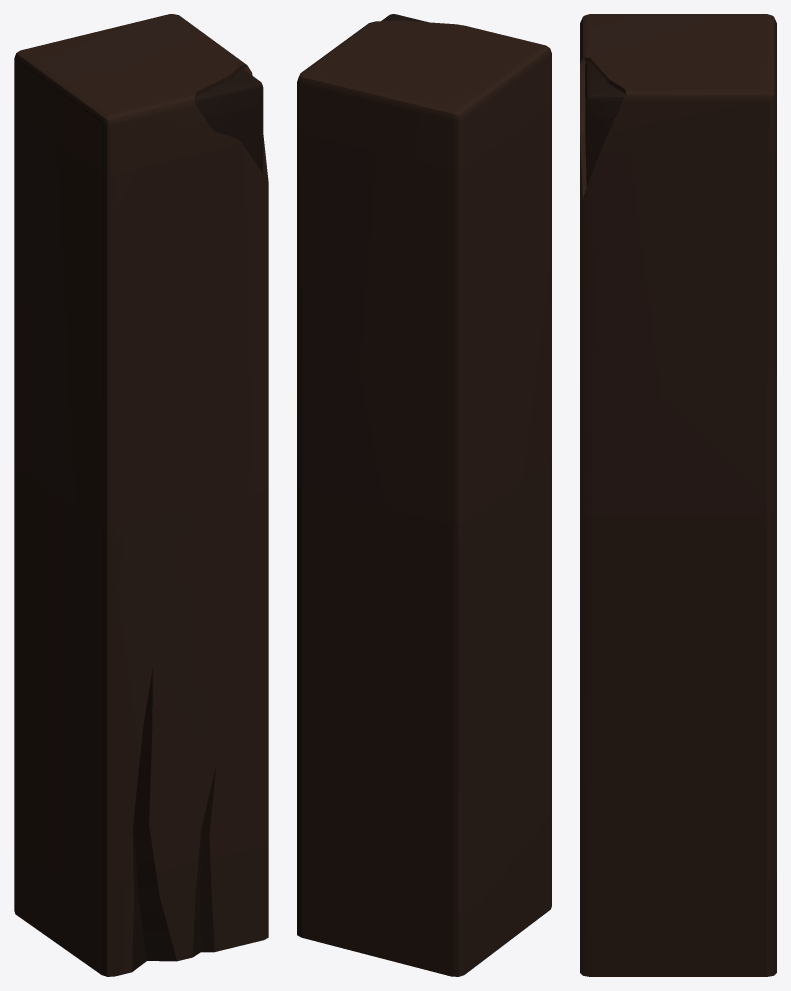
The model's file is SM_Column02.fbx.
3 views of the same model, side by side, from view 1: azimuth 30°, elevation 25°; view 2: azimuth 150°, elevation 25°; view 3: azimuth 270°, elevation 25° (orthographic). The views are drawn at different scales.
Parts seen in each view (by area): view 1: SM_Column02; view 2: SM_Column02; view 3: SM_Column02.
Boxes of the visible parts, x1=… form: SM_Column02: x1=14, y1=14, x2=268, y2=976; SM_Column02: x1=297, y1=14, x2=551, y2=976; SM_Column02: x1=580, y1=14, x2=776, y2=976.
Size of the model in its own units: 25 by 124 by 25.
